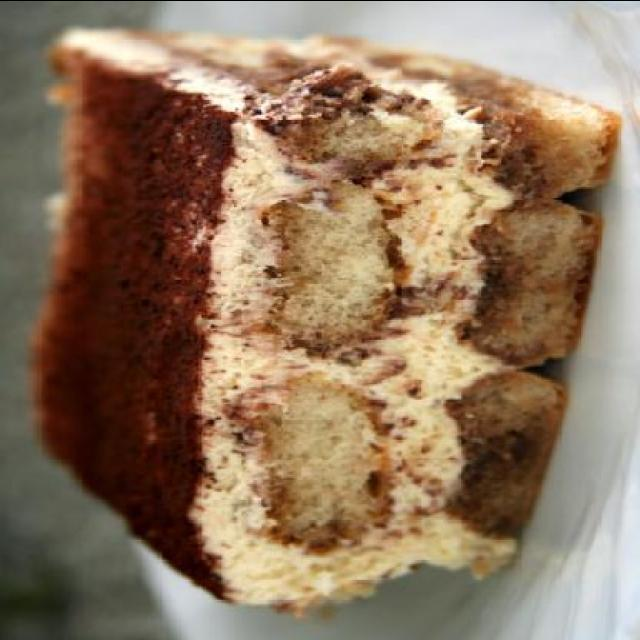Tiramisu: (28, 46, 600, 578)
